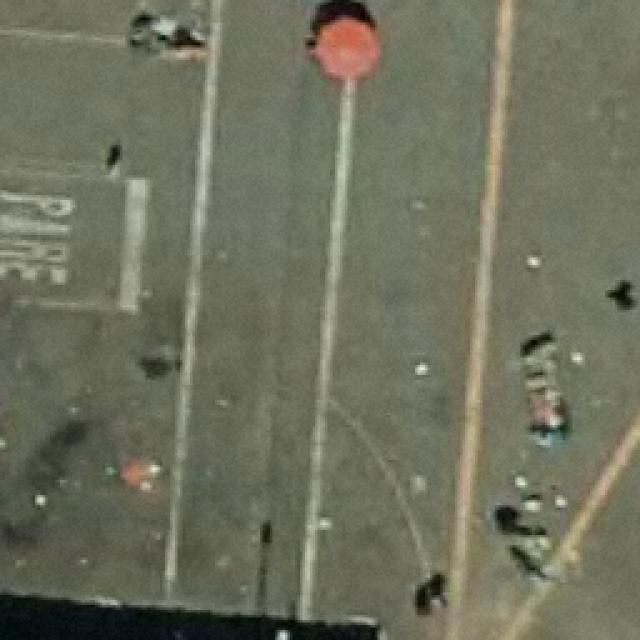vendedor_ambulante: (302, 2, 384, 85)
